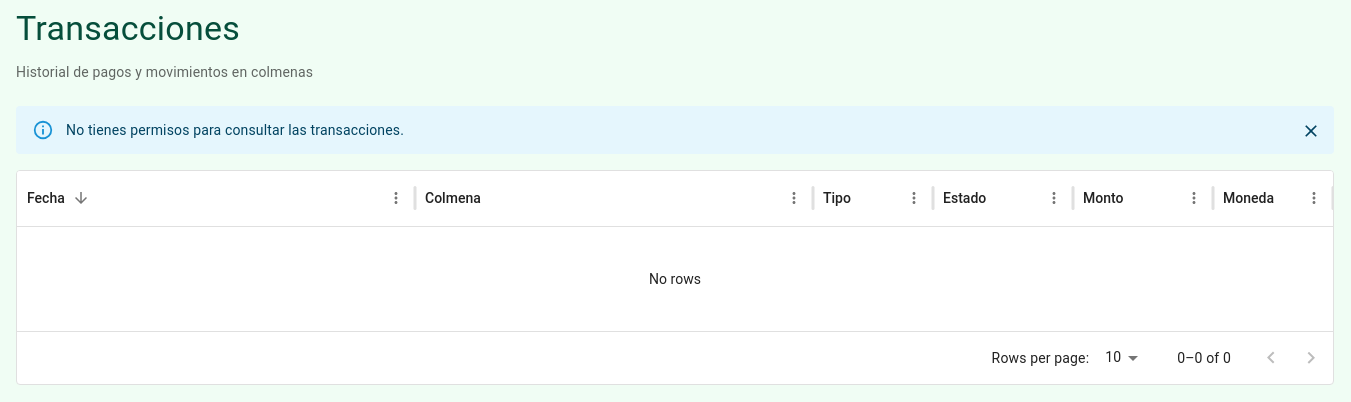
Test: Transactions Page › shows an info alert when the user lacks permission and clears it on close
Expected: the text "No tienes permisos para consultar las transacciones." is shown, x1=66 y1=122 x2=404 y2=138
Click the button named "close".
click(1311, 131)  # box x1=1296 y1=116 x2=1326 y2=146
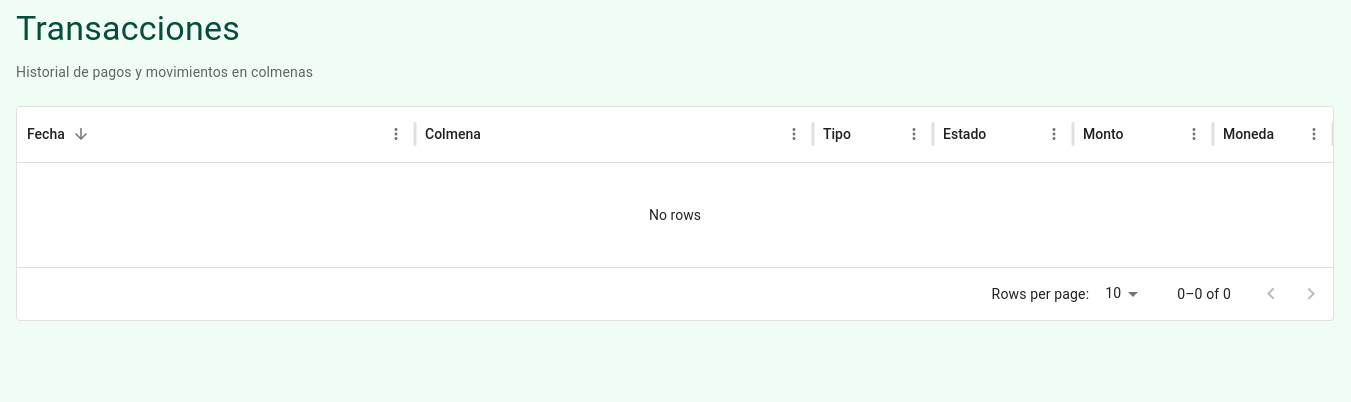
Expected: the text "No tienes permisos para consultar las transacciones." is gone
